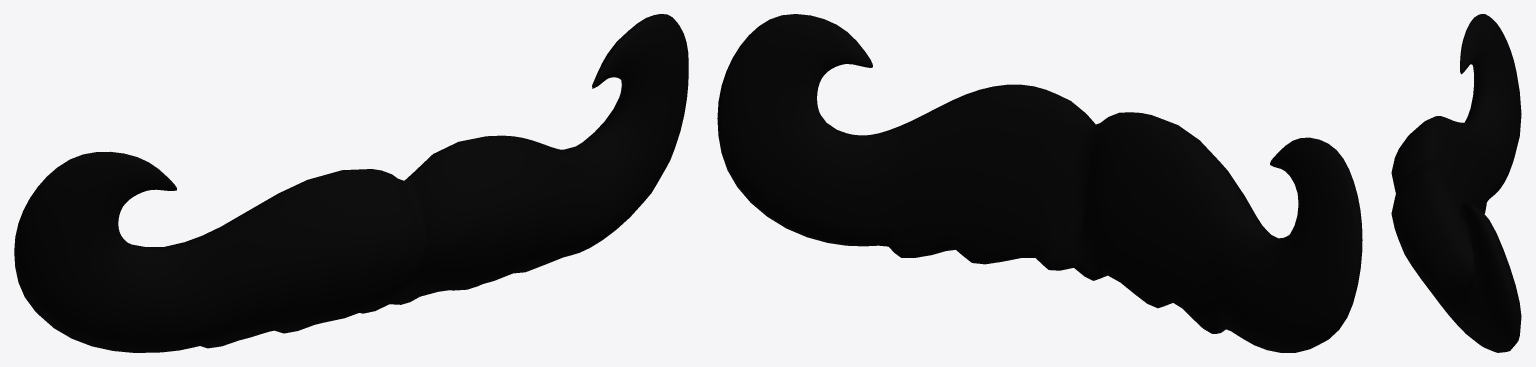
The picture shows the model from 3 angles, left to right: view 1: azimuth 30°, elevation 25°; view 2: azimuth 150°, elevation 25°; view 3: azimuth 270°, elevation 25°; orthographic projection. The views are drawn at different scales.
Visible parts, largest first — view 1: muscle_man_mustache.1; view 2: muscle_man_mustache.1; view 3: muscle_man_mustache.1.
Boxes of the visible parts, x1=… form: muscle_man_mustache.1: x1=14, y1=14, x2=688, y2=352; muscle_man_mustache.1: x1=717, y1=14, x2=1362, y2=352; muscle_man_mustache.1: x1=1391, y1=14, x2=1521, y2=352.
Bounding box in the file's own units: 0.4881 × 0.1571 × 0.1156.
Materials: 1 (1 with a texture image).
